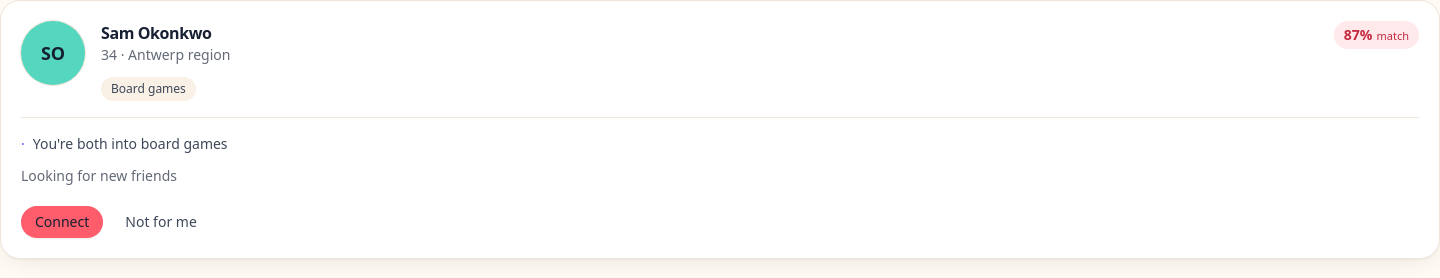
Scenario: dismissing somebody › leaves something behind instead of vanishing
This screenshot has width=1440, height=278.
Click the button "Not for me" at (161, 222), box x1=111 y1=206 x2=211 y2=238
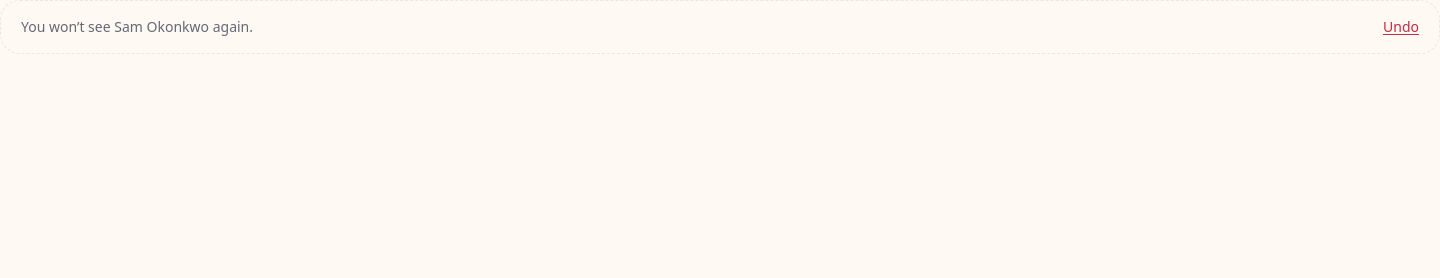
Expected: the button "Undo" is shown, x1=1383 y1=17 x2=1419 y2=37
